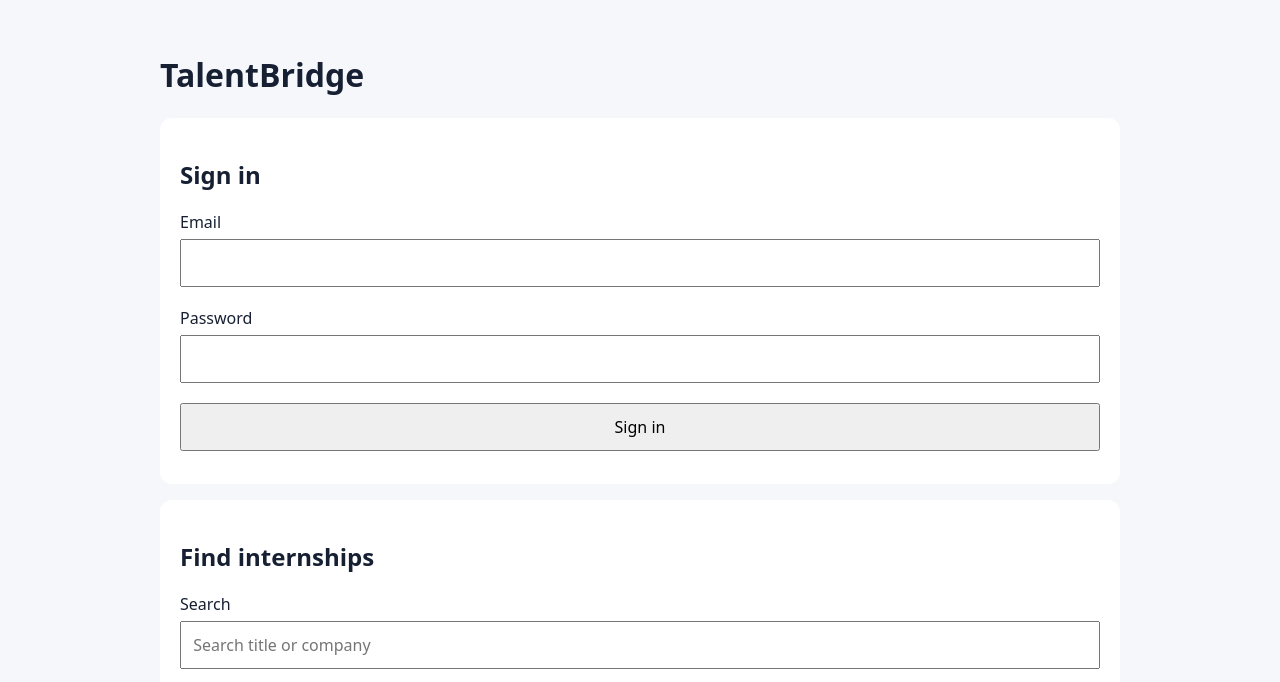
Test case: TalentBridge user behavior › shows failed API state
Type "user@example.com" into the field labelled "Email".
click(640, 263); type("user@example.com")  # box x1=180 y1=239 x2=1100 y2=288
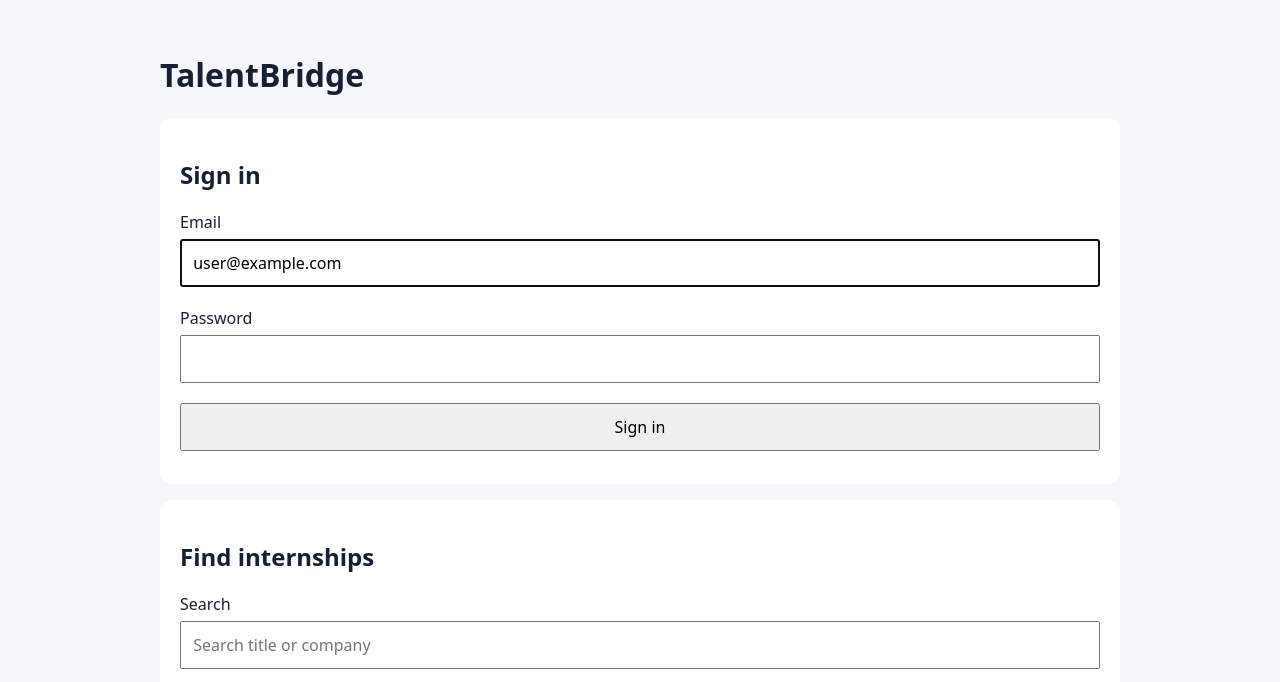
Type "longpassword" into the password field labelled "Password".
click(640, 359); type("longpassword")  # box x1=180 y1=335 x2=1100 y2=383
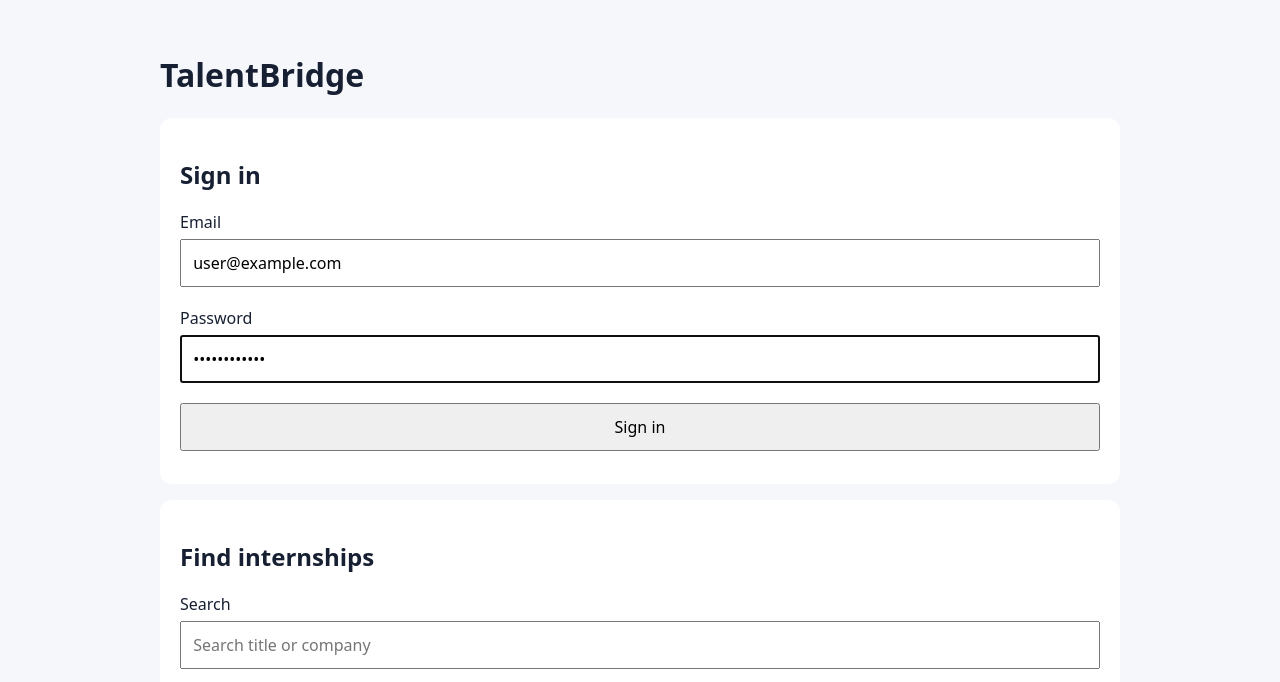
Click the button "Sign in".
click(640, 427)  # box x1=180 y1=403 x2=1100 y2=451
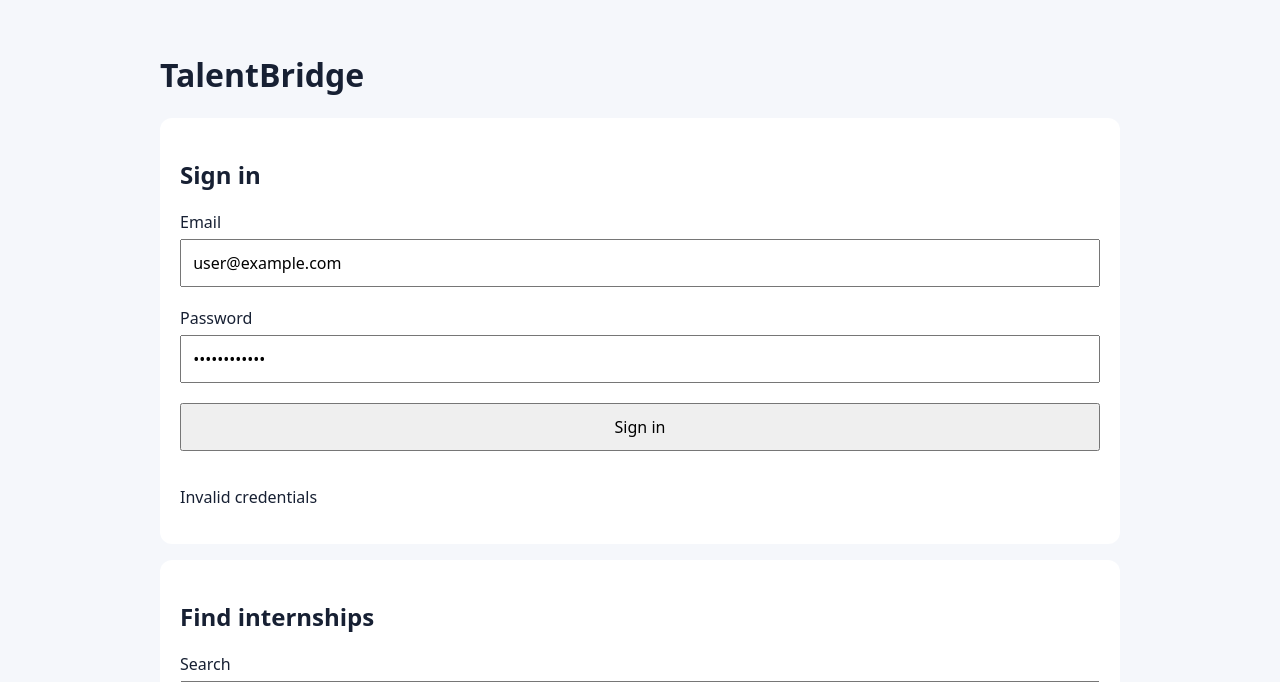
Now the message reads "Invalid credentials", box x1=180 y1=486 x2=317 y2=508
